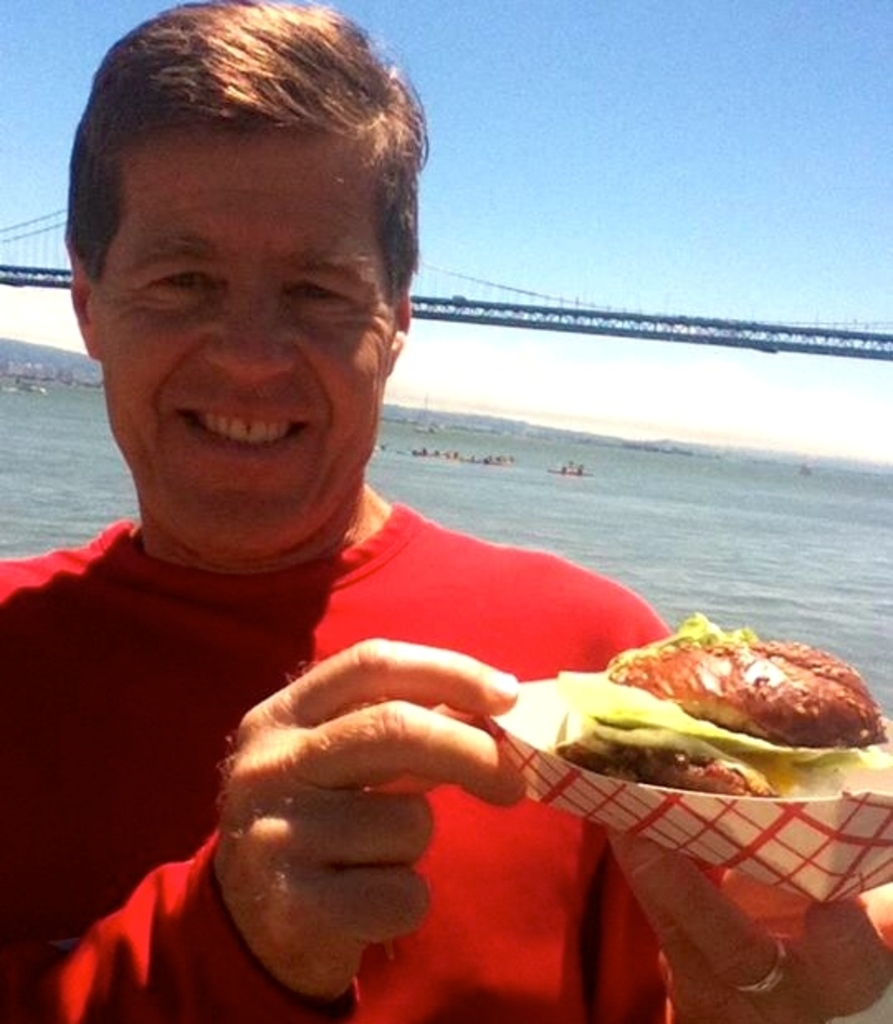Hamburger: (552, 613, 891, 799)
